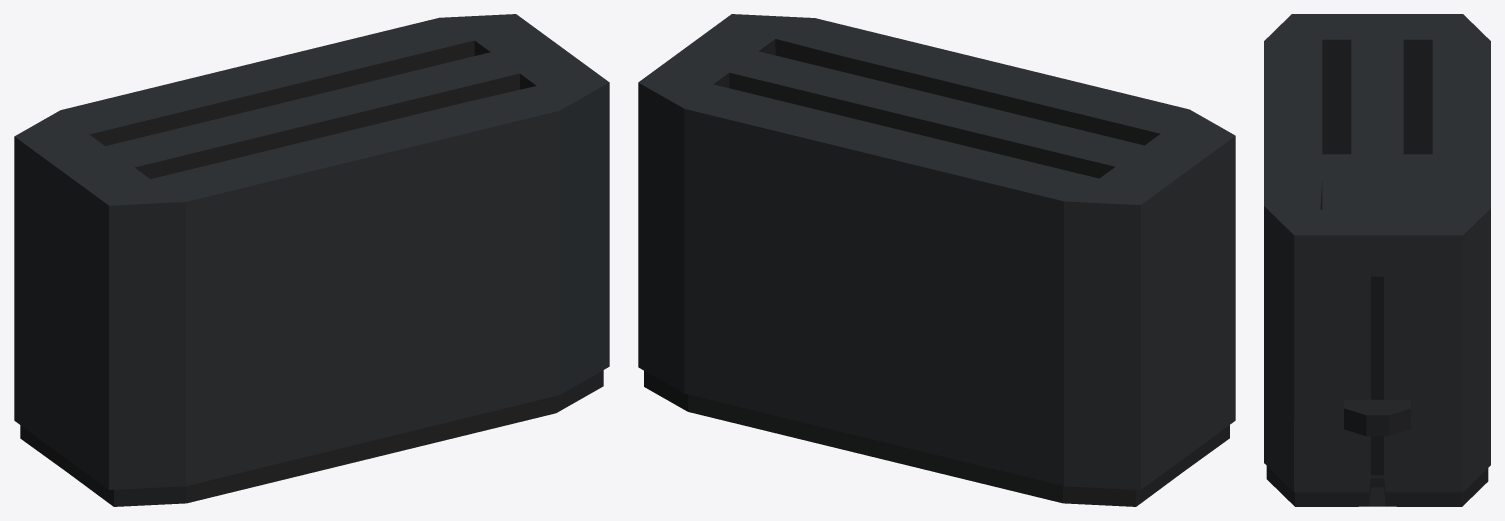
Rendered from toaster_01_E.gltf.
The picture shows the model from 3 angles, left to right: view 1: azimuth 30°, elevation 25°; view 2: azimuth 150°, elevation 25°; view 3: azimuth 270°, elevation 25°; orthographic projection. The views are drawn at different scales.
Visible parts, largest first — view 1: toaster_01_E; view 2: toaster_01_E; view 3: toaster_01_E, Switchfortoaster_01_E.
Part boxes in pixels (box(x1,y1,x2,y2)): toaster_01_E: box(14, 14, 609, 506); toaster_01_E: box(638, 14, 1235, 506); toaster_01_E: box(1264, 14, 1490, 506); Switchfortoaster_01_E: box(1344, 399, 1410, 436).
Size of the model in its own units: 0.371 by 0.2 by 0.15.
Materials: 1 (1 with a texture image).
